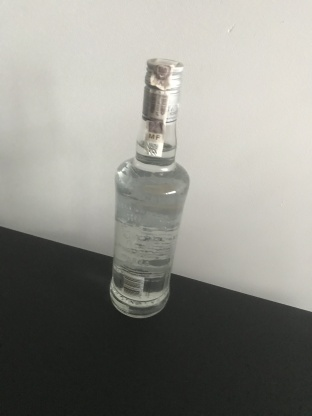nakretka: (139, 56, 185, 123)
